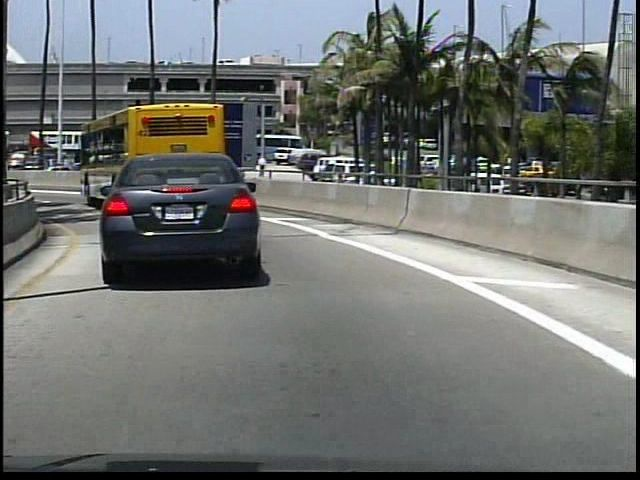person: (254, 153, 267, 182)
